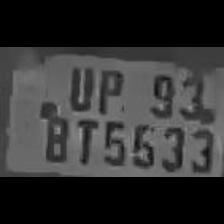3: (158, 118, 186, 172), (186, 120, 214, 174), (176, 63, 206, 113)
5: (97, 116, 127, 168), (128, 117, 155, 169)
9: (144, 66, 176, 116)
B: (38, 106, 70, 164)
P: (93, 64, 127, 114)
T: (70, 114, 98, 166)
U: (64, 62, 94, 110)
